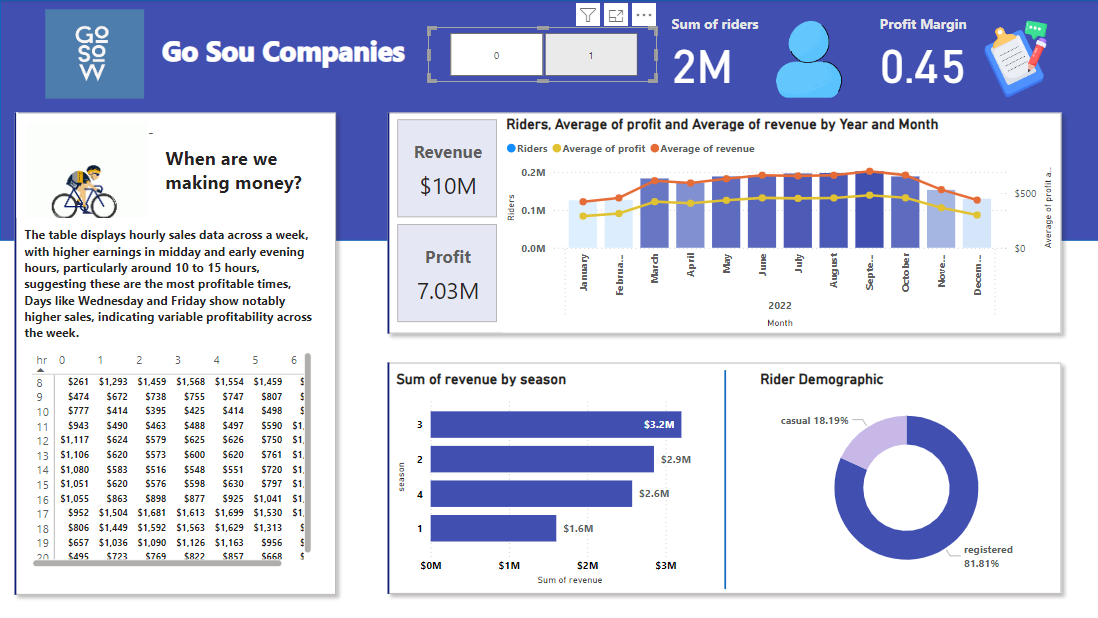

Layout of this report page (visuals, bound fields, positions):
{"tool":"powerbi","page":{"name":"Page 1","canvas":[1280,720],"ordinal":0},"visuals":[{"type":"shape","box":[0,0,1280,280],"z":0},{"type":"cardVisual","fields":{"Data":["Min(Query2.riders)"]},"box":[0,113.8,408.8,595],"z":1000},{"type":"cardVisual","fields":{"Data":["Min(Query2.riders)"]},"box":[433.8,113.8,818.8,291.2],"z":2000},{"type":"cardVisual","fields":{"Data":["Min(Query2.riders)"]},"box":[433.8,405,818.8,303.8],"z":3000},{"type":"cardVisual","fields":{"Data":["Min(Query2.riders)"]},"box":[13.8,126.2,191.2,133.8],"z":4000},{"type":"pivotTable","fields":{"Values":["Avg(Query2.revenue)"],"Columns":["Query2.weekday"],"Rows":["Query2.hr"]},"box":[32.5,405,335,260],"z":5000},{"type":"textbox","box":[187.5,163.8,196.2,95],"z":6000},{"type":"textbox","box":[23.8,258.8,351.2,146.2],"z":7000},{"type":"lineClusteredColumnComboChart","fields":{"Category":["Query2.dteday.Variation.Date Hierarchy.Year","Query2.dteday.Variation.Date Hierarchy.Month"],"Y":["Sum(Query2.riders)"],"Y2":["Avg(Query2.profit)","Avg(Query2.revenue)"]},"box":[583.8,133.8,646.2,252.5],"z":8000},{"type":"clusteredBarChart","fields":{"Category":["Query2.season"],"Y":["Sum(Query2.revenue)"]},"box":[456.2,430,387.5,255],"z":9000},{"type":"donutChart","title":"Rider Demographic","fields":{"Category":["Query2.rider_type"],"Y":["Sum(Query2.riders)"]},"box":[880,430,350,255],"z":10000},{"type":"shape","box":[806.2,430,75,255],"z":11000},{"type":"cardVisual","fields":{"Data":["Sum(Query2.revenue)","Sum(Query2.profit)"]},"box":[457.5,133.8,126.2,246.2],"z":12000},{"type":"cardVisual","fields":{"Data":["Sum(Query2.riders)","Query2.Profit Margin"]},"box":[765,0,487.5,126.2],"z":13000},{"type":"image","box":[47.5,6.2,125,113.8],"z":13002},{"type":"textbox","box":[172.5,31.2,315,63.8],"z":13003},{"type":"slicer","fields":{"Values":["Query2.yr"]},"box":[497.5,31.2,267.5,63.8],"z":13004}]}

Visuals, with their boxes in screenshot pixels (x1, y1, x2, y2), scaled from the page's 1280x720 canvas onto the 1098x618 screenshot:
shape: [x1=0, y1=0, x2=1097, y2=240]
cardVisual - Min(Query2.riders): [x1=0, y1=98, x2=351, y2=608]
cardVisual - Min(Query2.riders): [x1=372, y1=98, x2=1074, y2=348]
cardVisual - Min(Query2.riders): [x1=372, y1=348, x2=1074, y2=608]
cardVisual - Min(Query2.riders): [x1=12, y1=108, x2=176, y2=223]
pivotTable - Avg(Query2.revenue) x Query2.weekday: [x1=28, y1=348, x2=315, y2=571]
textbox: [x1=161, y1=141, x2=329, y2=222]
textbox: [x1=20, y1=222, x2=322, y2=348]
lineClusteredColumnComboChart - Query2.dteday.Variation.Date Hierarchy.Year x Query2.dteday.Variation.Date Hierarchy.Month: [x1=501, y1=115, x2=1055, y2=332]
clusteredBarChart - Query2.season x Sum(Query2.revenue): [x1=391, y1=369, x2=724, y2=588]
"Rider Demographic" donutChart: [x1=755, y1=369, x2=1055, y2=588]
shape: [x1=692, y1=369, x2=756, y2=588]
cardVisual - Sum(Query2.revenue) x Sum(Query2.profit): [x1=392, y1=115, x2=501, y2=326]
cardVisual - Sum(Query2.riders) x Query2.Profit Margin: [x1=656, y1=0, x2=1074, y2=108]
image: [x1=41, y1=5, x2=148, y2=103]
textbox: [x1=148, y1=27, x2=418, y2=82]
slicer - Query2.yr: [x1=427, y1=27, x2=656, y2=82]
